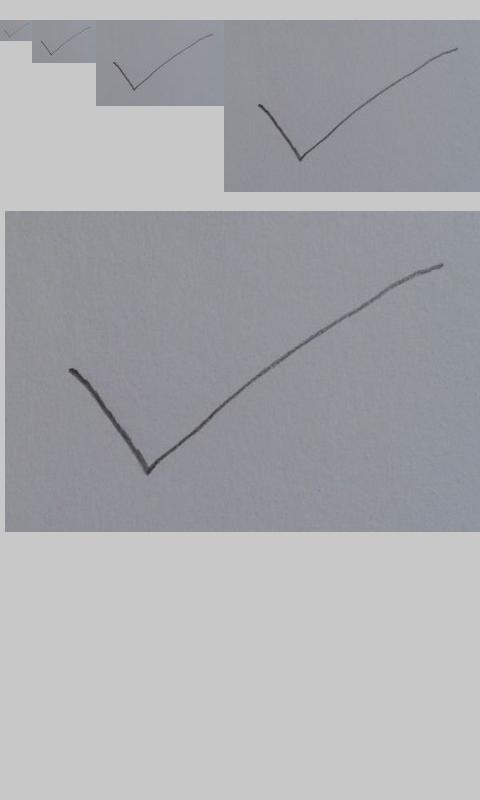check_box: (68, 263, 445, 478), (257, 47, 457, 162), (112, 33, 214, 91), (41, 26, 90, 56), (4, 24, 27, 38)
